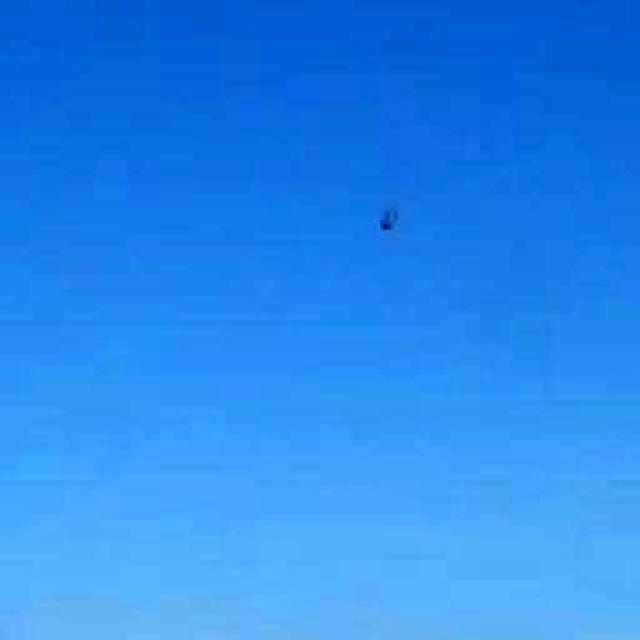drone: (352, 181, 412, 251)
